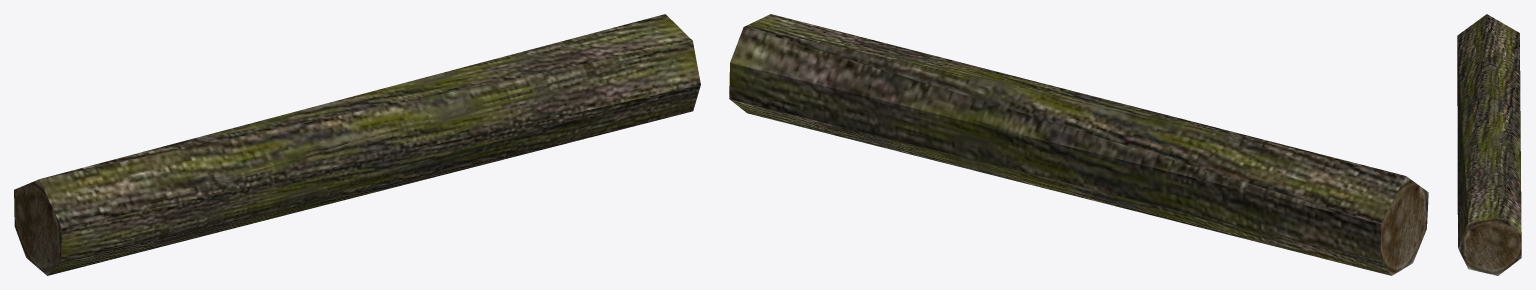
File: STATIC_BELA.glb
3 views of the same model, side by side, from view 1: azimuth 30°, elevation 25°; view 2: azimuth 150°, elevation 25°; view 3: azimuth 270°, elevation 25° (orthographic). The views are drawn at different scales.
Parts seen in each view (by area): view 1: STATIC_BELA; view 2: STATIC_BELA; view 3: STATIC_BELA.
Part boxes in pixels (bbox=[...]): STATIC_BELA: bbox=[14, 14, 700, 275]; STATIC_BELA: bbox=[729, 14, 1428, 275]; STATIC_BELA: bbox=[1457, 14, 1521, 275].
Size of the model in its own units: 1.63 by 0.2228 by 0.2175.
Materials: 2 (2 with a texture image).
